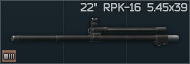RPK-16 5.45x39 22 inch barrel: (0, 0, 190, 64)
